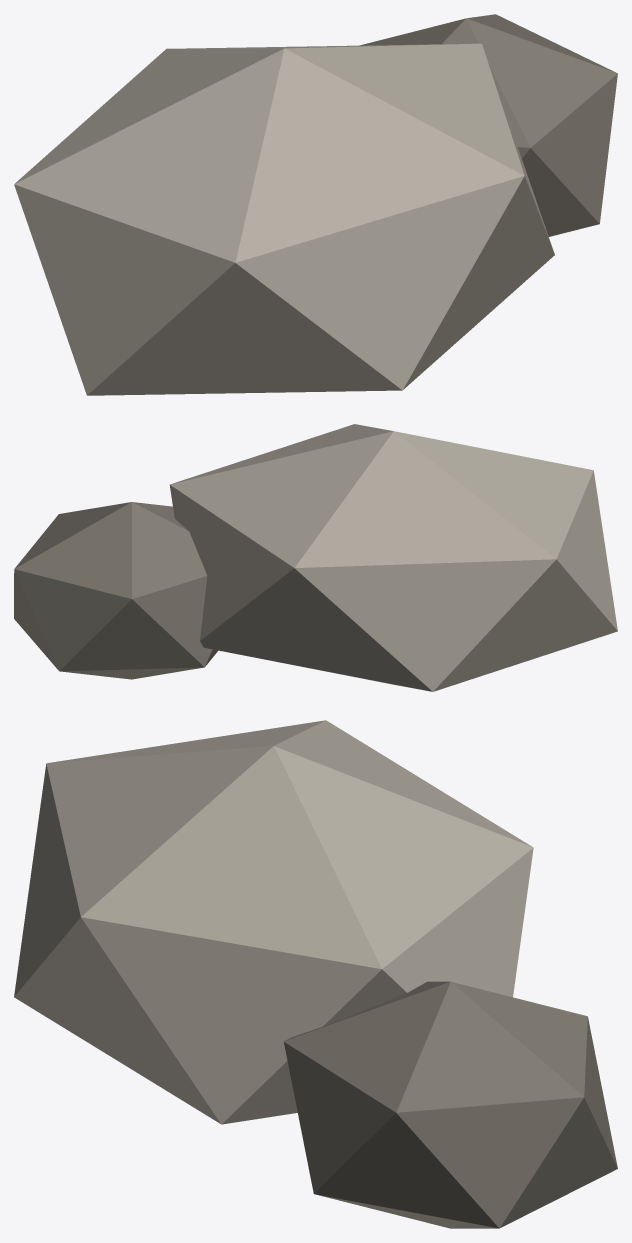
Rendered from rock.fbx.
3 renders of one model, top to bottom at view 1: azimuth 30°, elevation 25°; view 2: azimuth 150°, elevation 25°; view 3: azimuth 270°, elevation 25°, orthographic. The views are drawn at different scales.
Visible parts, largest first — view 1: rock; view 2: rock; view 3: rock.
Boxes of the visible parts, box(x1,y1,x2,y2) form: rock: box(14, 14, 617, 395); rock: box(14, 424, 617, 691); rock: box(14, 720, 617, 1228).
Size of the model in its own units: 0.2196 by 0.11 by 0.1706.
